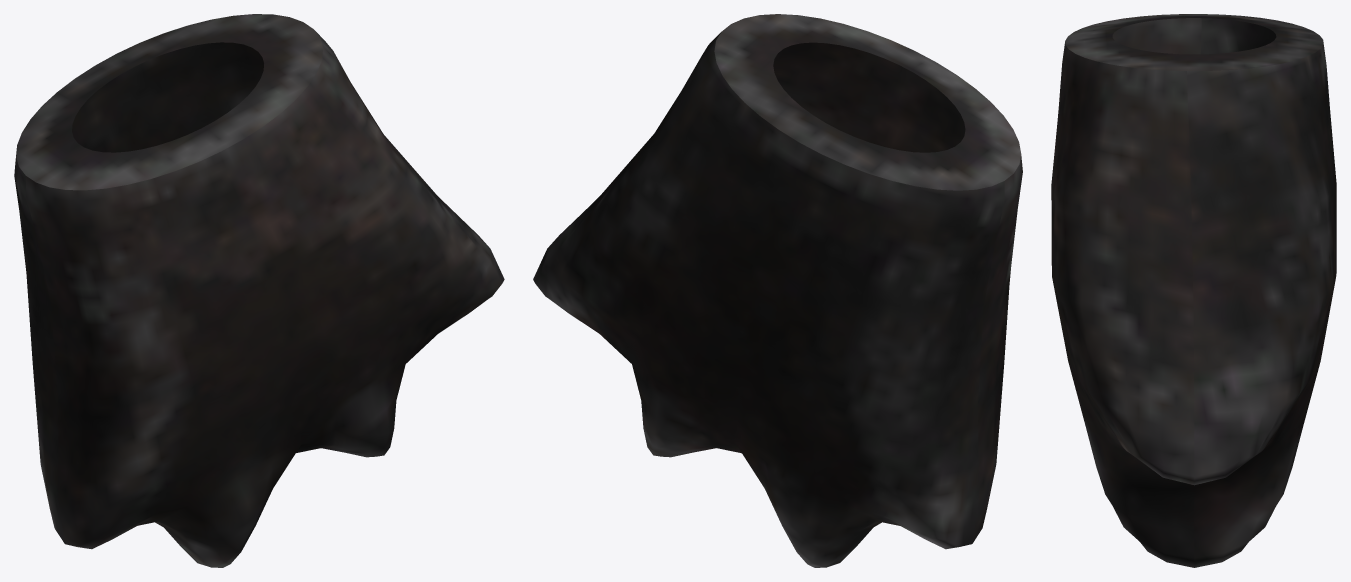
The model's file is wm_dol_goldur_1h_sword_a01_pommel.fbx.
3 views of the same model, side by side, from view 1: azimuth 30°, elevation 25°; view 2: azimuth 150°, elevation 25°; view 3: azimuth 270°, elevation 25° (orthographic). The views are drawn at different scales.
Visible parts, largest first — view 1: wm_dol_goldur_1h_sword_a01_pommel; view 2: wm_dol_goldur_1h_sword_a01_pommel; view 3: wm_dol_goldur_1h_sword_a01_pommel.
Part boxes in pixels (x1,y1,x2,y2): wm_dol_goldur_1h_sword_a01_pommel: [14, 14, 504, 567]; wm_dol_goldur_1h_sword_a01_pommel: [533, 14, 1022, 567]; wm_dol_goldur_1h_sword_a01_pommel: [1051, 14, 1336, 567].
Size of the model in its own units: 0.0626 by 0.031 by 0.0657.
1 material, 1 textured.
